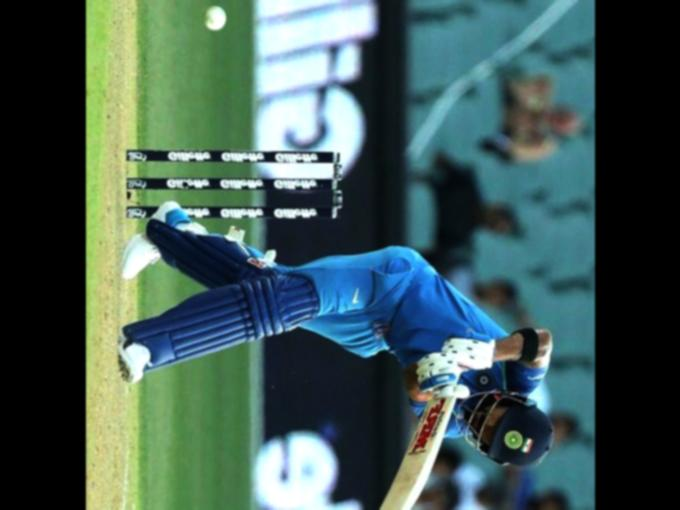batsman: (85, 173, 589, 510)
